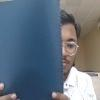notebook: (0, 0, 64, 99)
